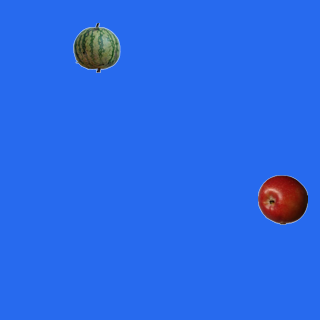Apple Braeburn: (257, 174, 307, 224)
Watermelon: (71, 22, 121, 72)
